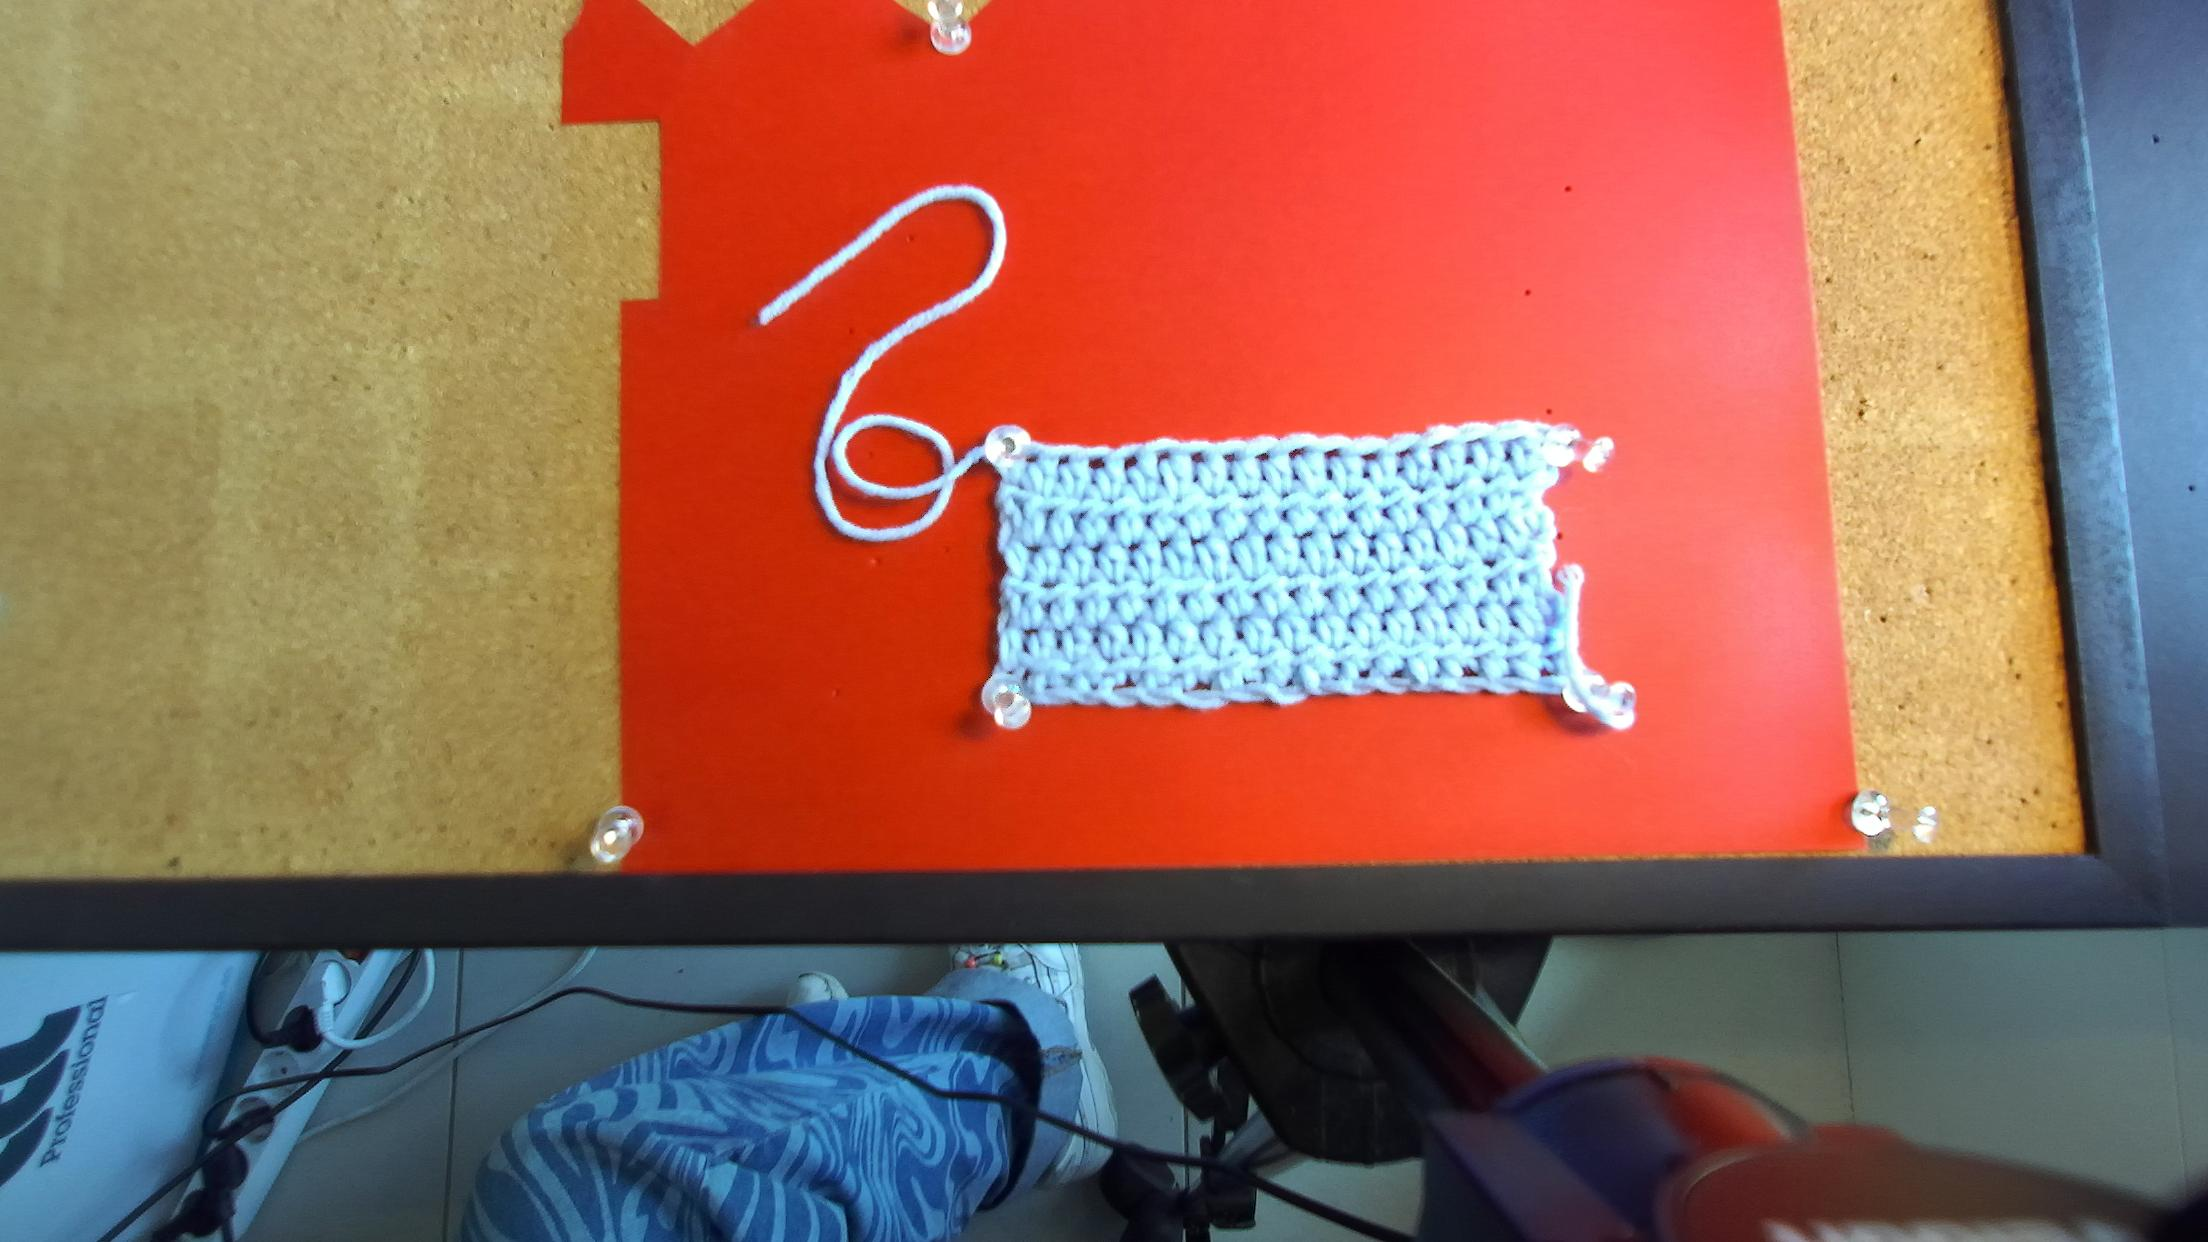hole: (1187, 449, 1205, 466), (1124, 452, 1138, 472), (1154, 449, 1170, 466), (1288, 446, 1306, 461), (1426, 439, 1447, 451), (1087, 456, 1105, 469), (1254, 450, 1272, 463), (1394, 446, 1414, 457), (1324, 448, 1342, 460), (1220, 451, 1236, 463), (1360, 451, 1378, 461), (1500, 436, 1520, 445), (1463, 437, 1484, 445), (1059, 454, 1072, 465), (1024, 454, 1039, 462)
swatch: (988, 423, 1604, 721)
